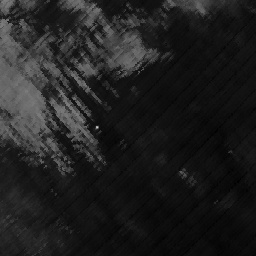Target: (94, 124, 100, 130)
